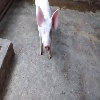heo: (35, 4, 60, 60)
